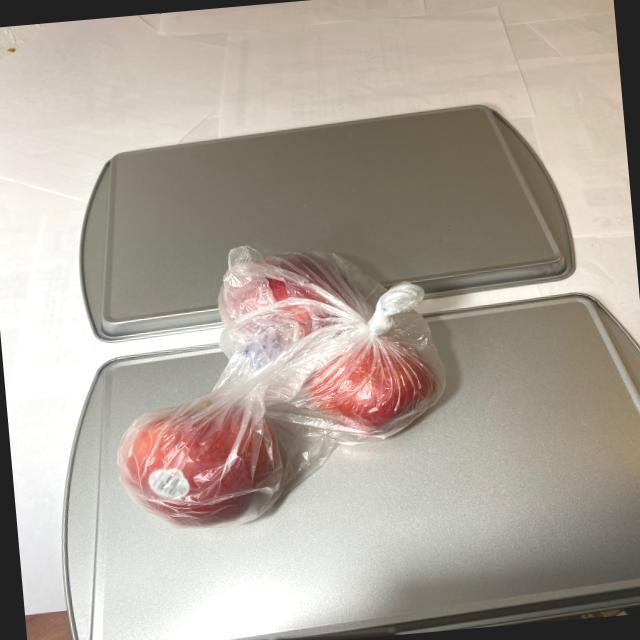apple: (103, 241, 450, 534)
